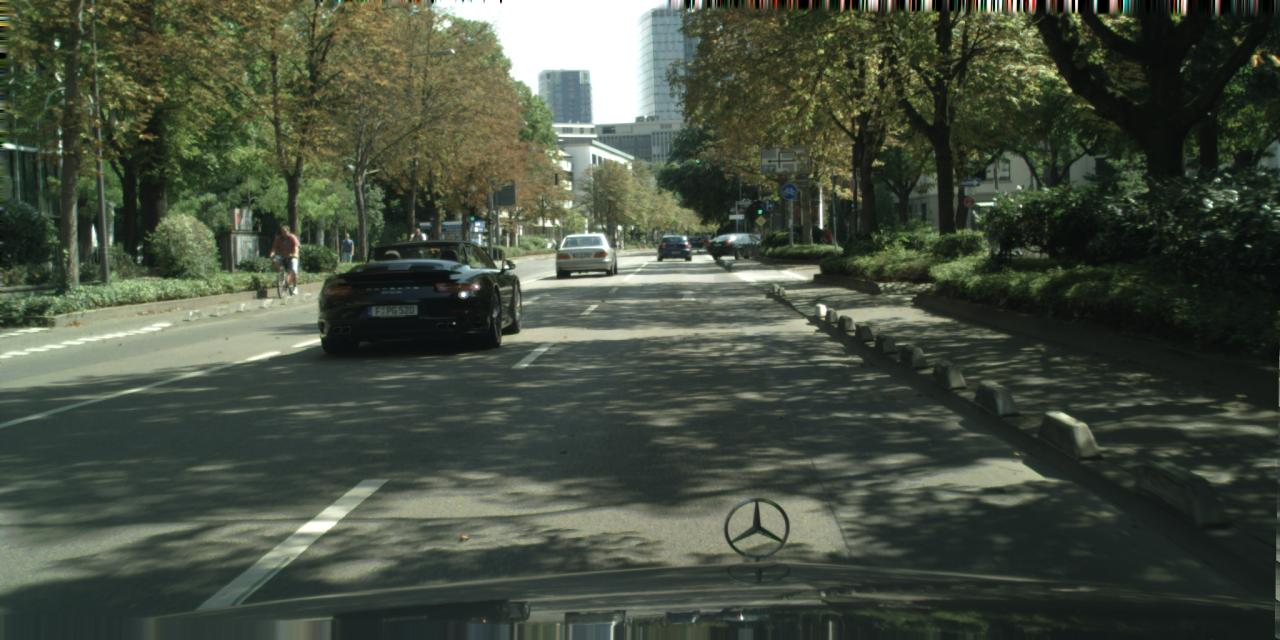ped: (273, 225, 298, 286), (338, 232, 356, 276), (821, 224, 834, 256), (412, 228, 424, 260), (711, 230, 717, 248), (706, 231, 712, 249), (550, 237, 556, 252)
